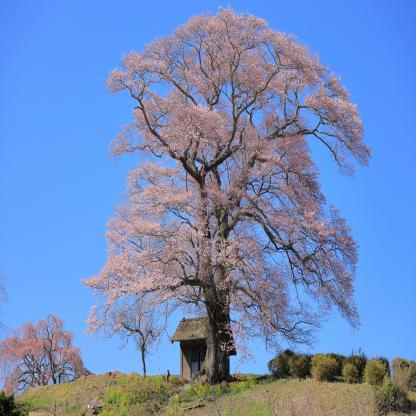EdohiganSakura: (80, 3, 374, 383), (1, 314, 91, 399)
